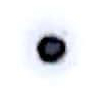cancer: (18, 13, 87, 80)
